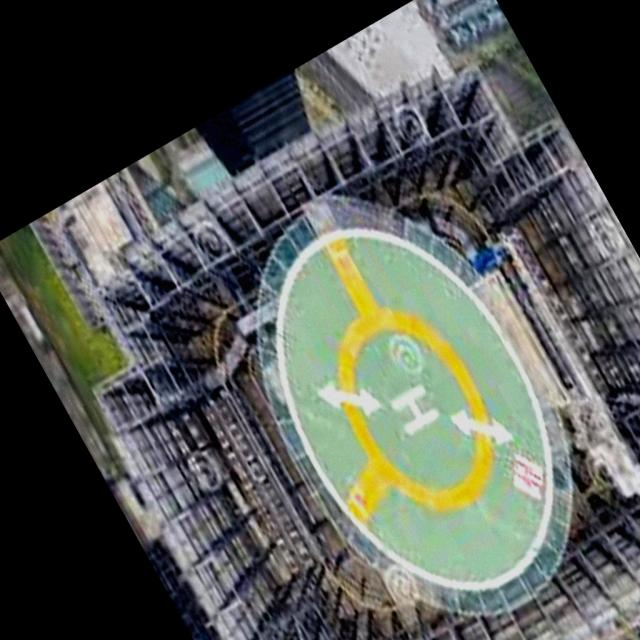helipad: (334, 304, 504, 514)
